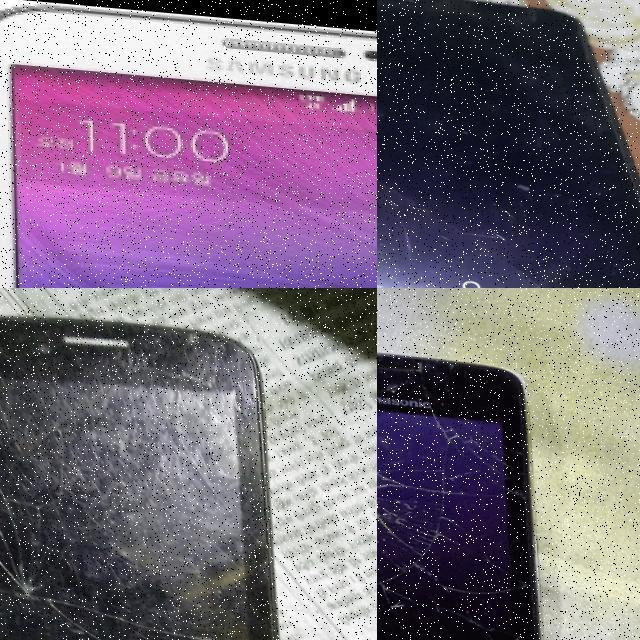screen crack: (0, 454, 281, 640), (377, 119, 635, 288), (377, 342, 499, 610), (107, 293, 257, 410), (440, 618, 539, 640)
